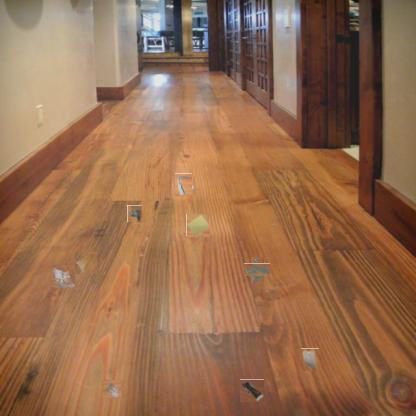dirty: (53, 264, 76, 288), (241, 379, 264, 402), (187, 214, 209, 237), (173, 175, 194, 195), (301, 348, 319, 371), (103, 380, 121, 398), (127, 205, 142, 222)
liquid: (75, 252, 97, 274), (248, 260, 267, 280)
